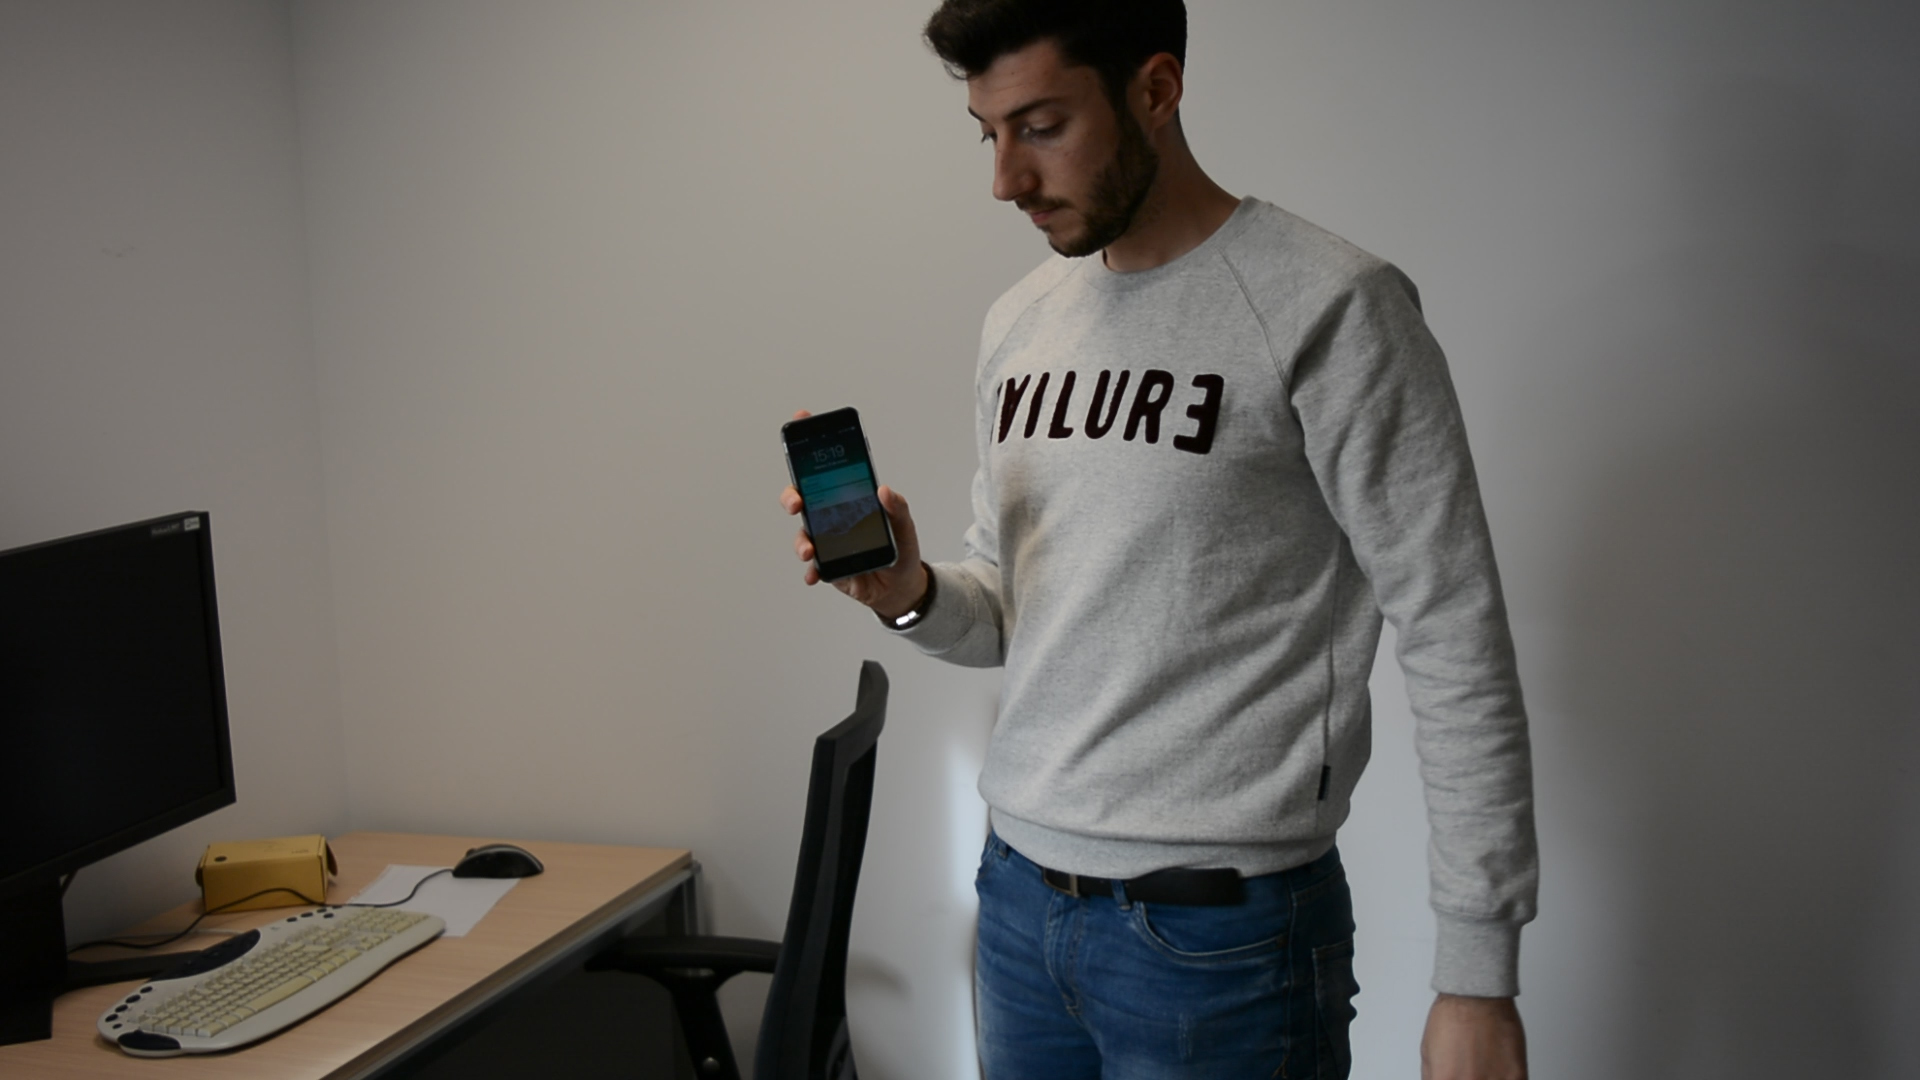smartphone: (779, 405, 899, 585)
